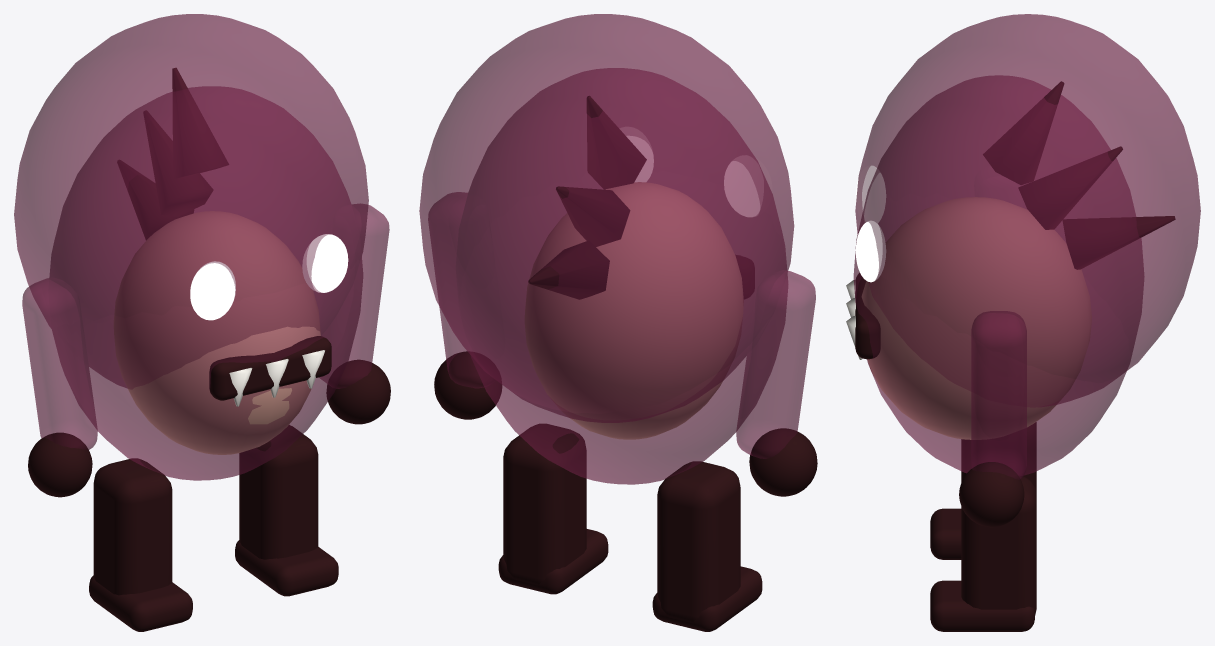
Rendered from skygge.glb.
The picture shows the model from 3 angles, left to right: view 1: azimuth 30°, elevation 25°; view 2: azimuth 150°, elevation 25°; view 3: azimuth 270°, elevation 25°; orthographic projection. The views are drawn at different scales.
Visible parts, largest first — view 1: krop_net, benV_net, benH_net, armV_net, armH_net; view 2: krop_net, benV_net, benH_net, armV_net, armH_net; view 3: krop_net, armH_net, benH_net, benV_net.
Boxes of the visible parts, left/top/right/bottom form: krop_net: left=14, top=14, right=368, bottom=480; benV_net: left=89, top=458, right=192, bottom=631; benH_net: left=235, top=425, right=338, bottom=596; armV_net: left=22, top=277, right=97, bottom=497; armH_net: left=320, top=204, right=390, bottom=424; krop_net: left=419, top=14, right=794, bottom=484; benV_net: left=652, top=461, right=762, bottom=631; benH_net: left=498, top=424, right=608, bottom=594; armV_net: left=736, top=270, right=817, bottom=496; armH_net: left=428, top=192, right=501, bottom=419; krop_net: left=846, top=14, right=1200, bottom=475; armH_net: left=959, top=311, right=1026, bottom=527; benH_net: left=930, top=476, right=1036, bottom=631; benV_net: left=930, top=422, right=1036, bottom=559.
Size of the model in its own units: 1.14 by 1.69 by 0.9755.
